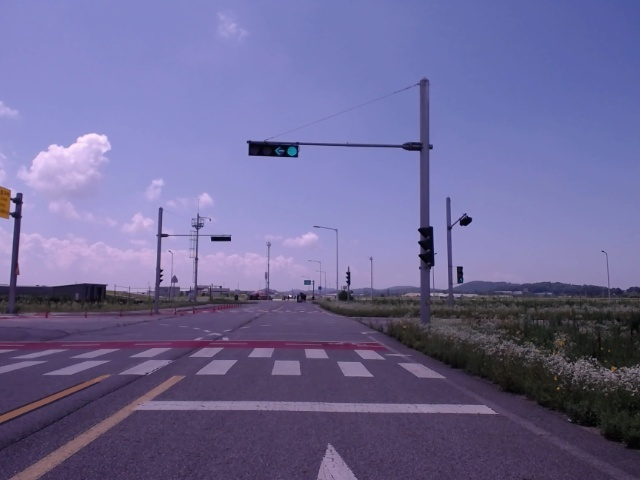all_green_4: (244, 141, 299, 155)
